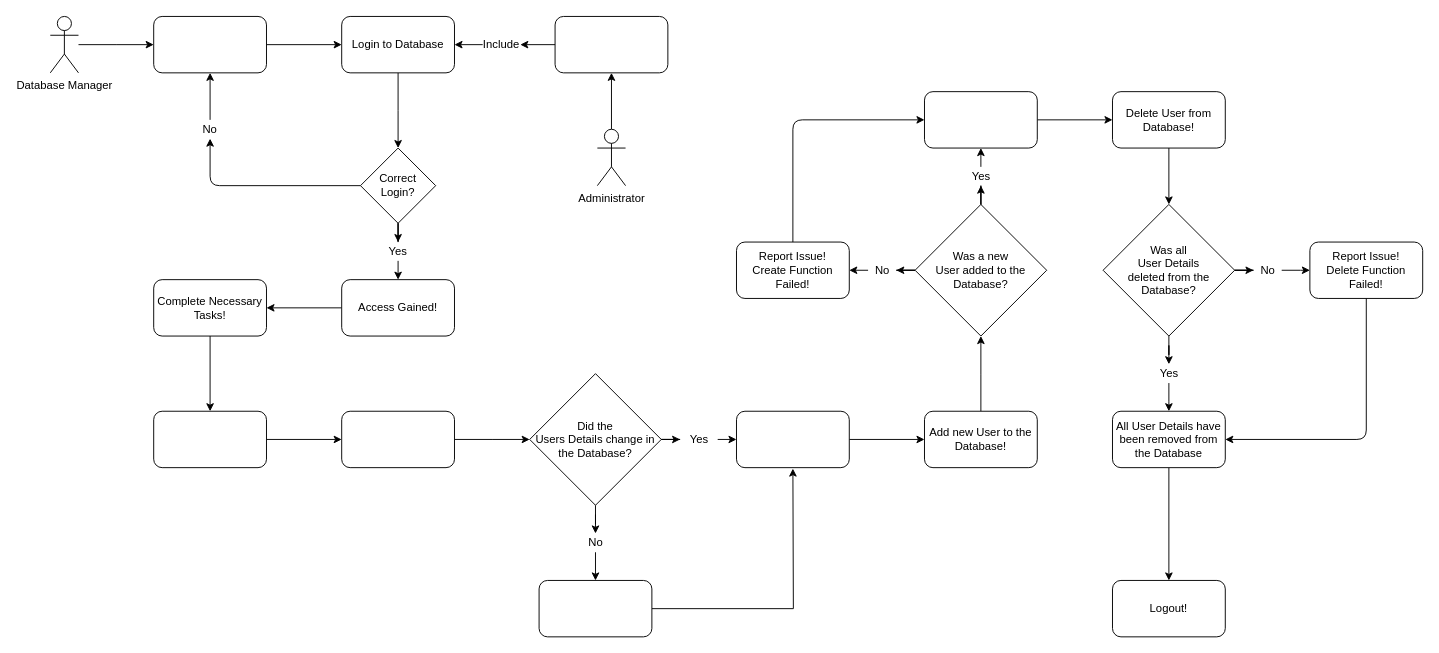
Image size: 1439x653. Some labels were removed from this diagram. The shapes that lost their labels are listed below. From the top down, each one's box as (x1, y1, x2, y2) in pixels, then its label:
(153, 16, 266, 73): Gain Access to Facebook Database
(554, 16, 668, 73): Confirm Login Details
(924, 91, 1037, 148): Use Delete User Functionality!
(153, 410, 266, 468): Use Update Functionality e.g. Change Name!
(341, 410, 454, 468): Update User Details!
(736, 410, 849, 468): Use the Create User Functionality!
(538, 580, 652, 637): Report Issue! Update Function Failed!
